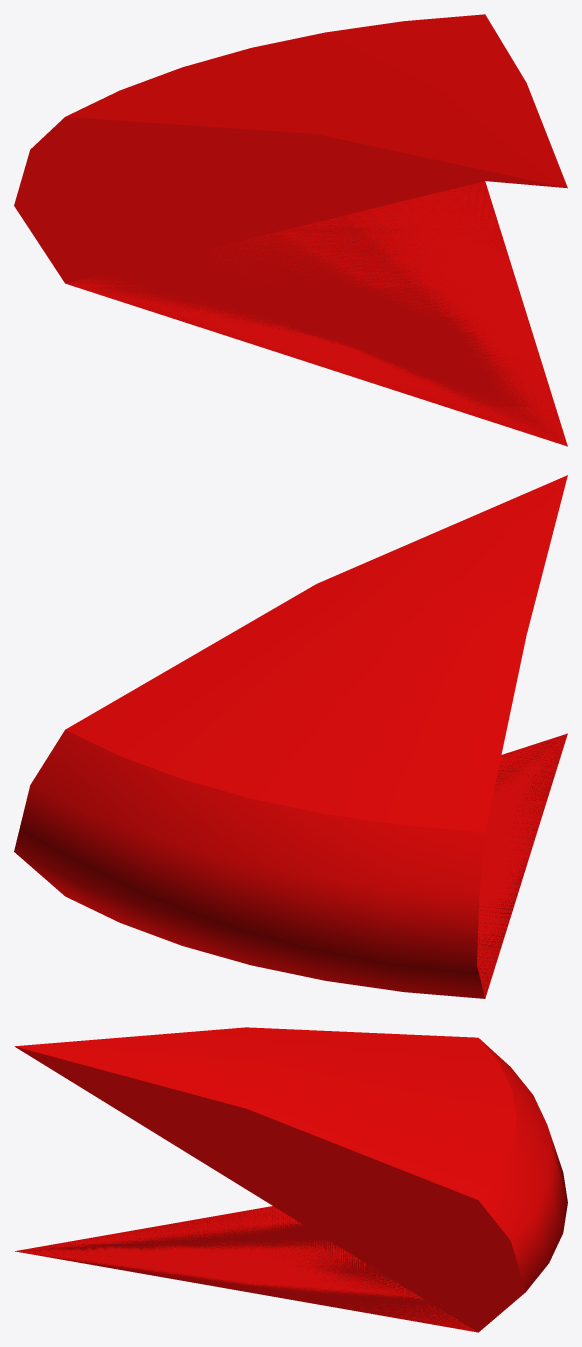
Rendered from body8_2.fbx.
3 views of the same model, one above another, from view 1: azimuth 30°, elevation 25°; view 2: azimuth 150°, elevation 25°; view 3: azimuth 270°, elevation 25° (orthographic). The views are drawn at different scales.
Visible parts, largest first — view 1: pCylinder241; view 2: pCylinder241; view 3: pCylinder241.
Boxes of the visible parts, left/top/right/bottom form: pCylinder241: left=14, top=14, right=567, bottom=446; pCylinder241: left=14, top=475, right=567, bottom=998; pCylinder241: left=14, top=1027, right=567, bottom=1332.
Bounding box in the file's own units: 3.42 × 1.82 × 4.47.
